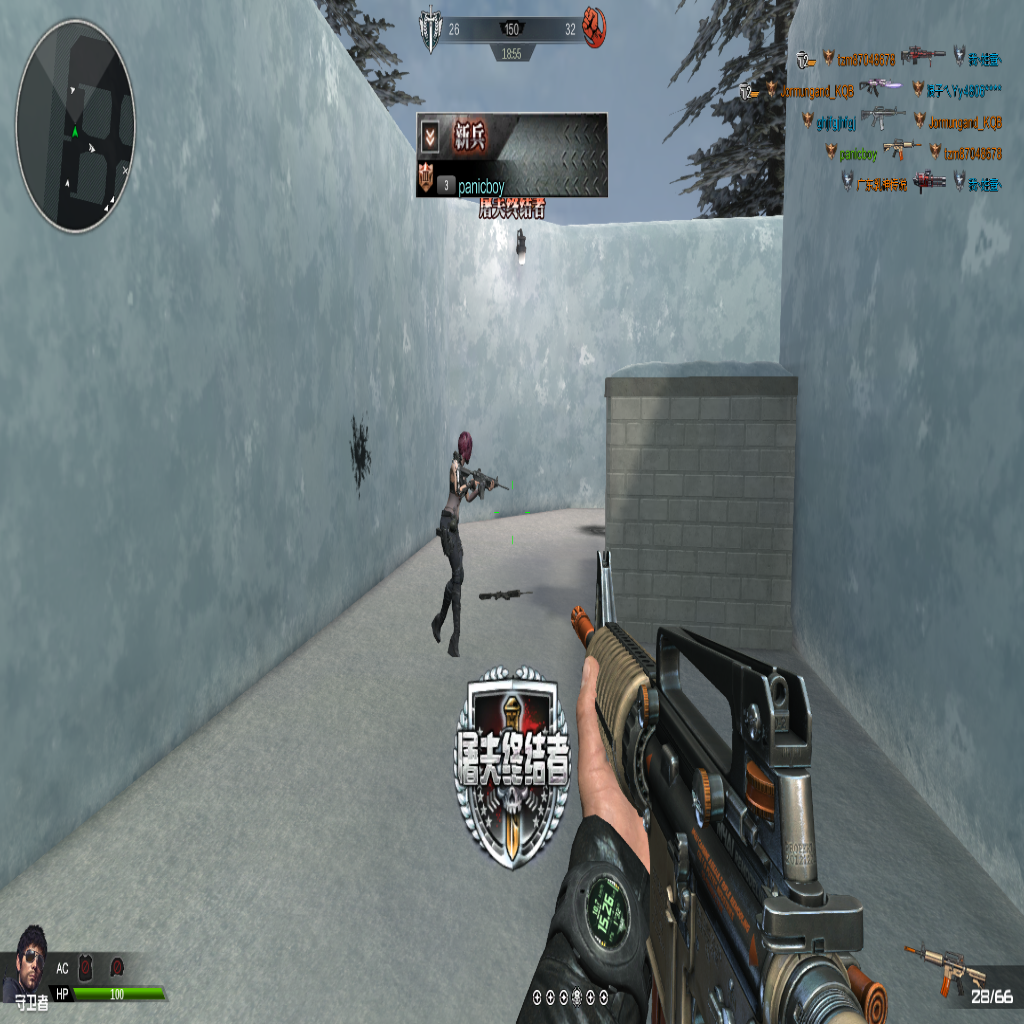ct: (431, 441, 484, 655)
